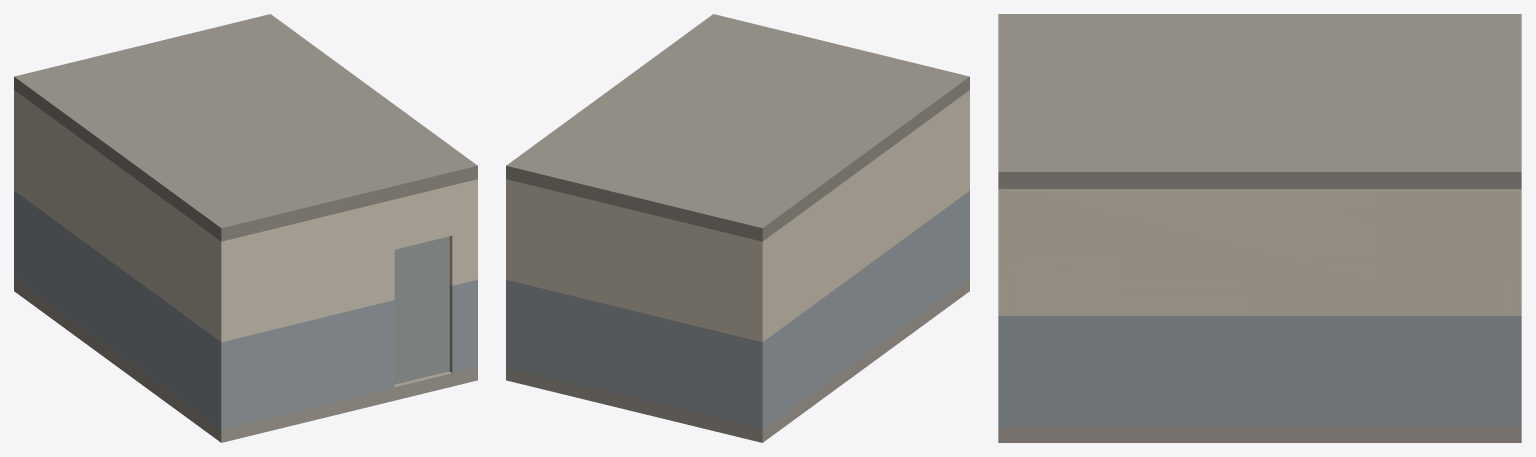
File: ParkToiletInterior.fbx
3 views of the same model, side by side, from view 1: azimuth 30°, elevation 25°; view 2: azimuth 150°, elevation 25°; view 3: azimuth 270°, elevation 25° (orthographic). The views are drawn at different scales.
Parts seen in each view (by area): view 1: ParkToiletInterior; view 2: ParkToiletInterior; view 3: ParkToiletInterior.
Part boxes in pixels (x1,y1,x2,y2): ParkToiletInterior: (14,14,477,442); ParkToiletInterior: (506,14,969,442); ParkToiletInterior: (998,14,1521,442).
Size of the model in its own units: 4 by 3.2 by 5.6.
